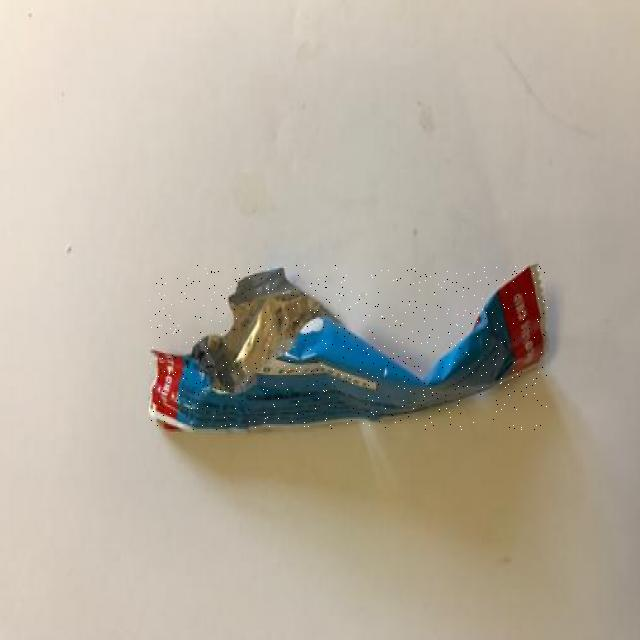wrapper: (150, 266, 548, 430)
